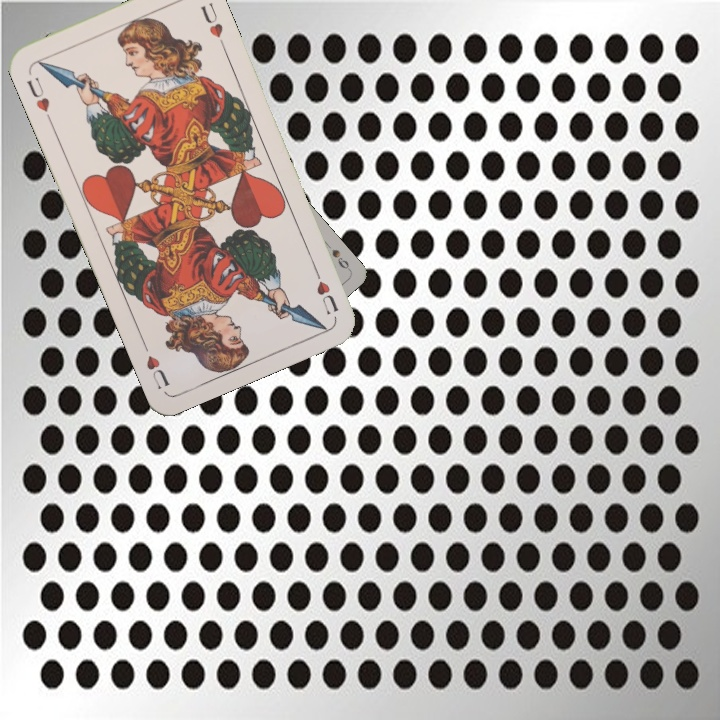HU: (309, 262, 341, 317), (23, 73, 53, 115)
S9: (328, 245, 353, 273)
